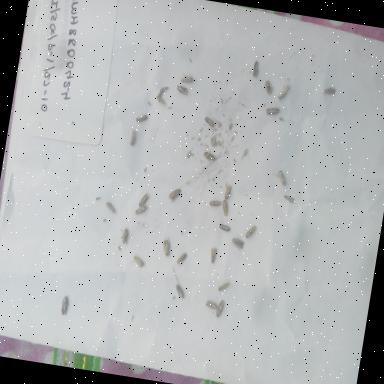pbw: (56, 292, 72, 318), (246, 57, 264, 80), (158, 236, 174, 261), (167, 182, 183, 206), (273, 168, 289, 190), (133, 106, 151, 124), (242, 222, 258, 242), (118, 225, 132, 247), (202, 147, 218, 166), (172, 81, 191, 97), (172, 282, 187, 302), (202, 112, 218, 130), (216, 276, 232, 294), (128, 253, 146, 269), (218, 199, 232, 219), (321, 83, 338, 99), (177, 71, 194, 87), (220, 182, 235, 200), (261, 77, 275, 96), (276, 82, 290, 101), (214, 298, 226, 320), (126, 128, 139, 148), (202, 298, 219, 313), (229, 236, 246, 251), (103, 200, 118, 216), (281, 192, 297, 206), (216, 222, 232, 236), (263, 104, 280, 117), (208, 246, 220, 264), (138, 192, 150, 210), (131, 204, 148, 216), (174, 250, 186, 266), (152, 92, 166, 105), (158, 84, 168, 98), (208, 198, 222, 208)
